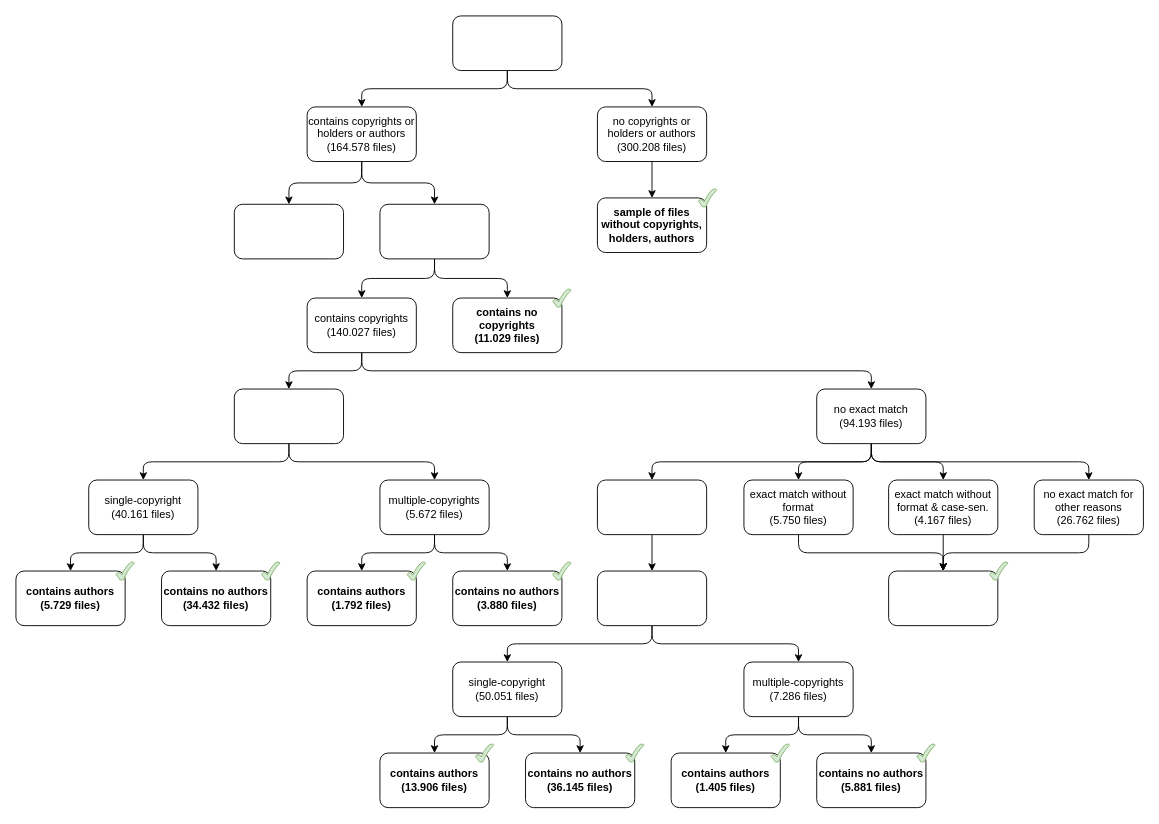
Some shapes in this 1159 by 824 pixel diagram are drawn without their labels. Here are the shapes that lost their labels. From the top down, the centre of each, then its label:
At pixel 507 43: "total dataset (464.786 files)".
At pixel 288 231: "duplicates (13.627 files)".
At pixel 434 231: "unique files (150.951 files)".
At pixel 288 416: "exact match (45.833 files)".
At pixel 652 507: "exact match without case-sensitivity (57.514 files)".
At pixel 652 598: "restored case (57.337 files)".
At pixel 943 598: "manually restored (currently 639 files)".
